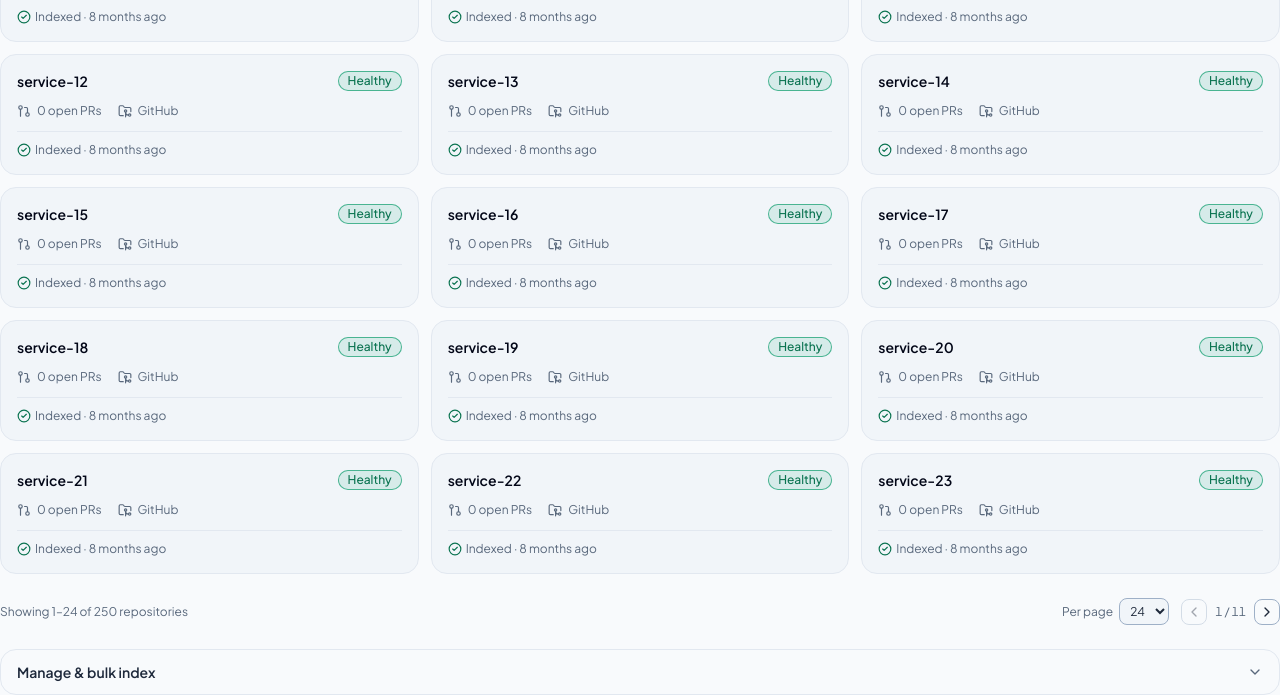
RepositoriesPage › asks the server for the next page rather than slicing a full list
(page scrolled)
Click the button named "Next page" at {"x": 1267, "y": 612}, box [1254,598,1279,624]
(page scrolled)
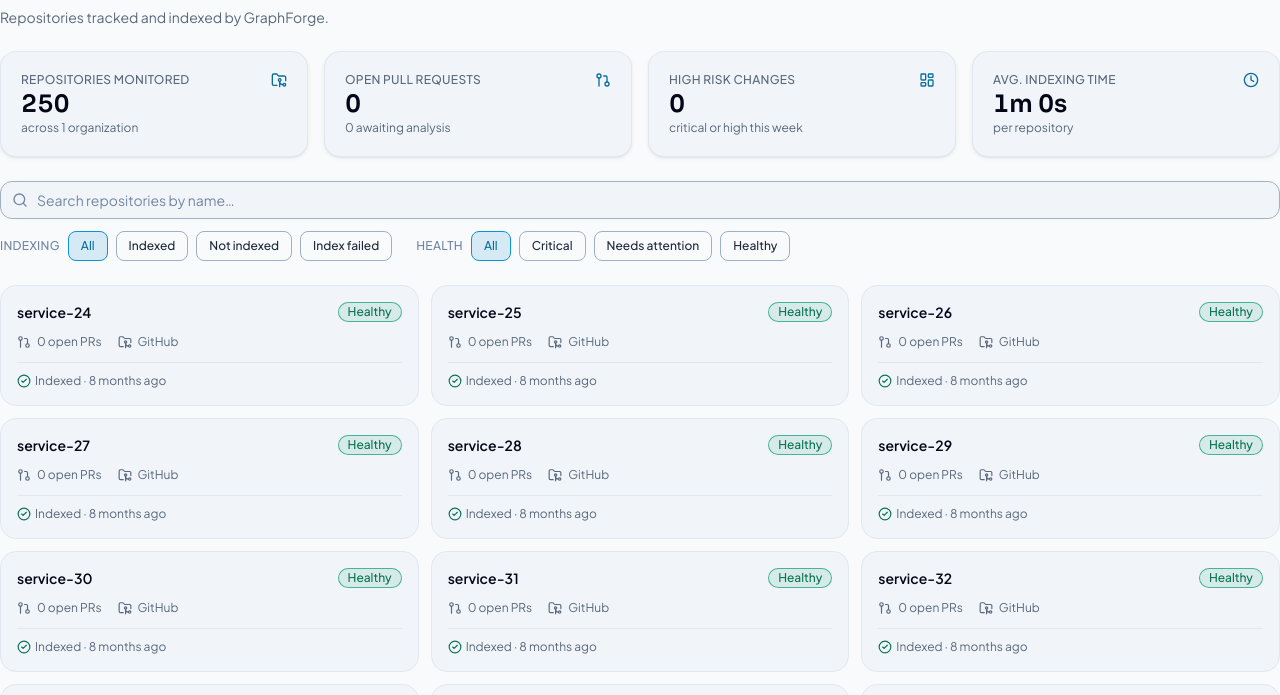
Expected: the text "service-24" is shown, [17,302,91,322]
